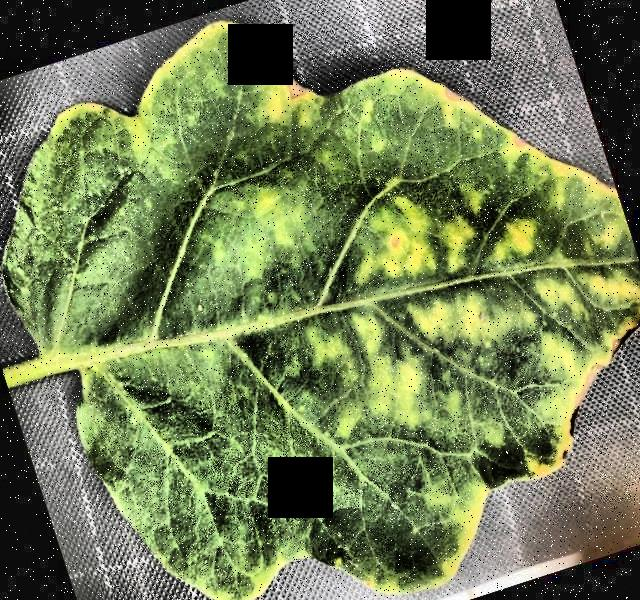Non-critical Stress: (0, 1, 640, 600)
